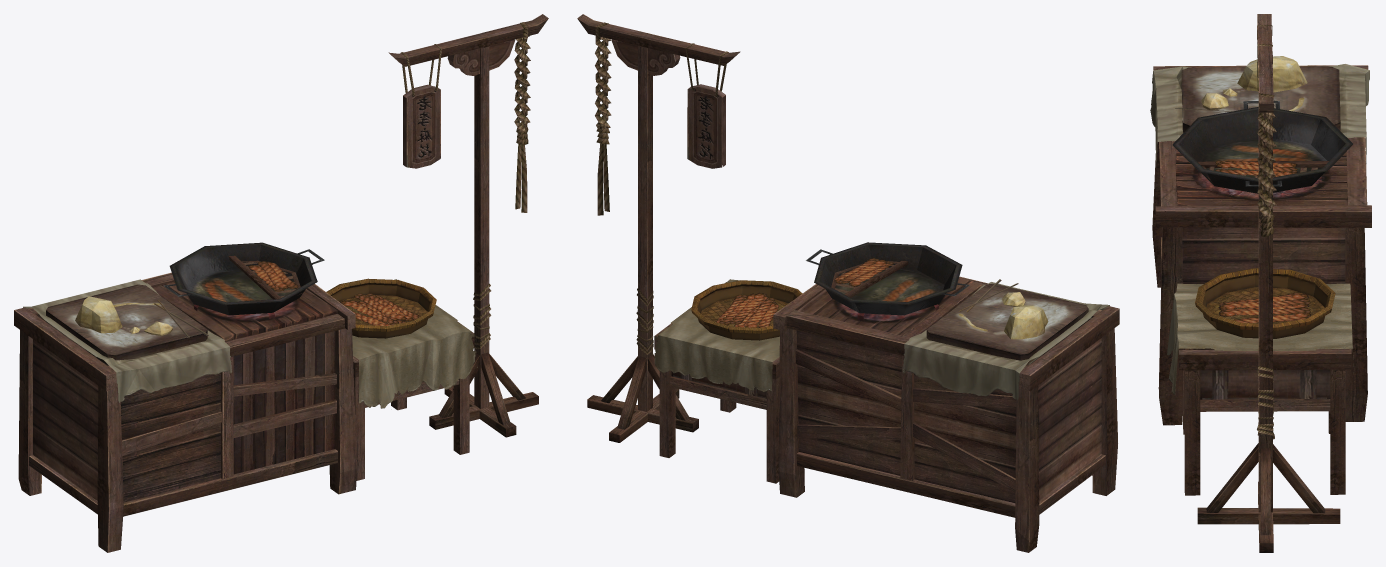
Rendered from 小吃摊01.fbx.
The picture shows the model from 3 angles, left to right: view 1: azimuth 30°, elevation 25°; view 2: azimuth 150°, elevation 25°; view 3: azimuth 270°, elevation 25°; orthographic projection. The views are drawn at different scales.
Parts seen in each view (by area): view 1: qingmo_obj_269 [10484564]; view 2: qingmo_obj_269 [10484564]; view 3: qingmo_obj_269 [10484564].
Part boxes in pixels (left/top/right/bottom): qingmo_obj_269 [10484564]: left=14, top=14, right=548, bottom=552; qingmo_obj_269 [10484564]: left=577, top=14, right=1119, bottom=552; qingmo_obj_269 [10484564]: left=1150, top=14, right=1371, bottom=552.
Bounding box in the file's own units: 24.67 × 8.25 × 18.55.
Materials: 3 (3 with a texture image).
